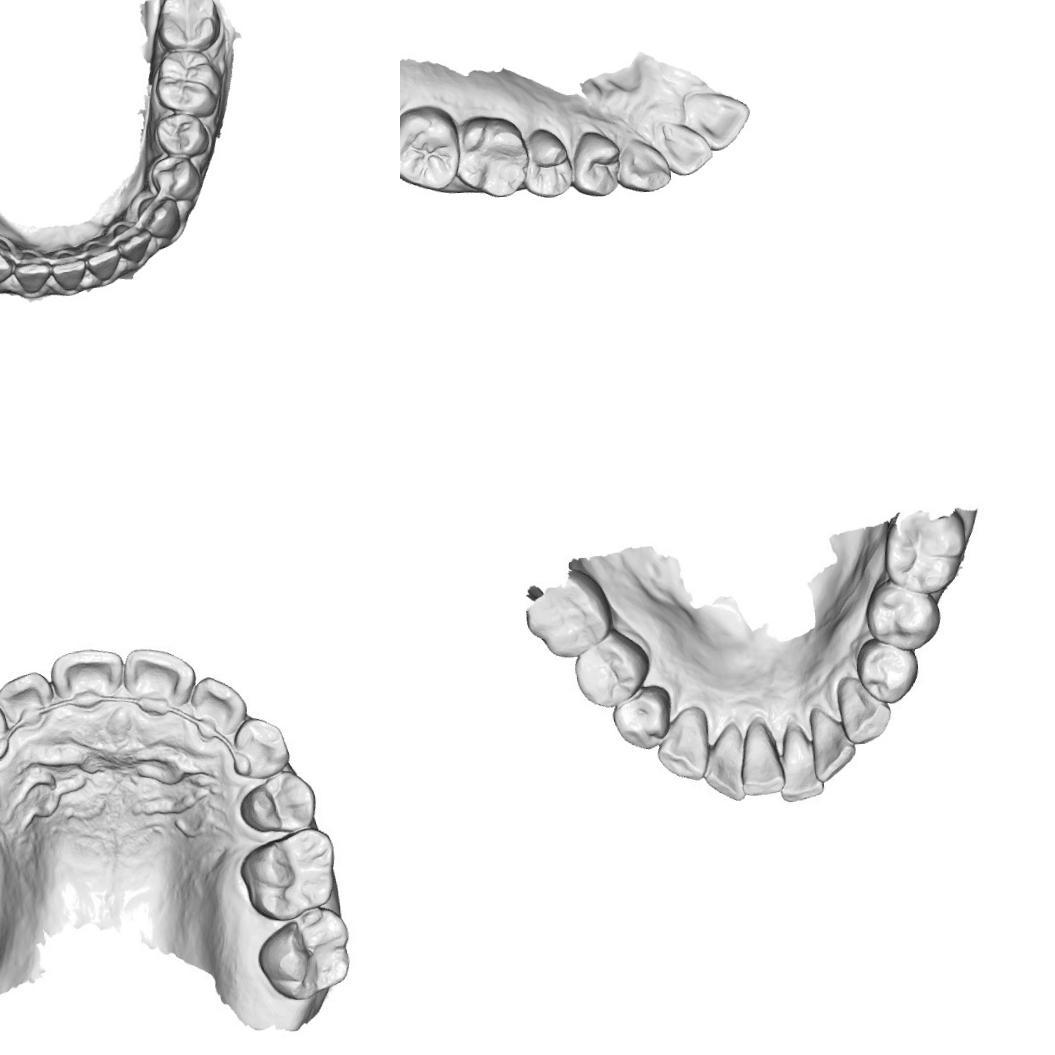canine: (829, 670, 892, 742), (652, 696, 708, 774), (230, 714, 292, 778), (614, 134, 672, 194), (136, 194, 182, 241), (0, 698, 16, 767), (0, 235, 15, 289)
incisor: (51, 640, 125, 714), (122, 644, 196, 713), (679, 86, 753, 154), (736, 712, 791, 798), (702, 711, 756, 798), (0, 666, 60, 738), (802, 705, 858, 778), (776, 720, 824, 803), (652, 115, 714, 178), (190, 674, 249, 735), (10, 247, 56, 296), (110, 221, 153, 266), (49, 247, 91, 293), (81, 239, 122, 283)
molar: (236, 824, 340, 921), (255, 903, 354, 1004), (517, 567, 617, 662), (884, 502, 972, 598), (452, 110, 532, 200), (400, 102, 464, 192), (152, 46, 226, 120), (152, 0, 222, 54)
premolar: (570, 630, 648, 711), (867, 574, 945, 652), (240, 768, 318, 838), (854, 637, 922, 706), (516, 125, 576, 201), (610, 681, 674, 749), (568, 128, 624, 198), (146, 152, 203, 203), (154, 112, 212, 160)
